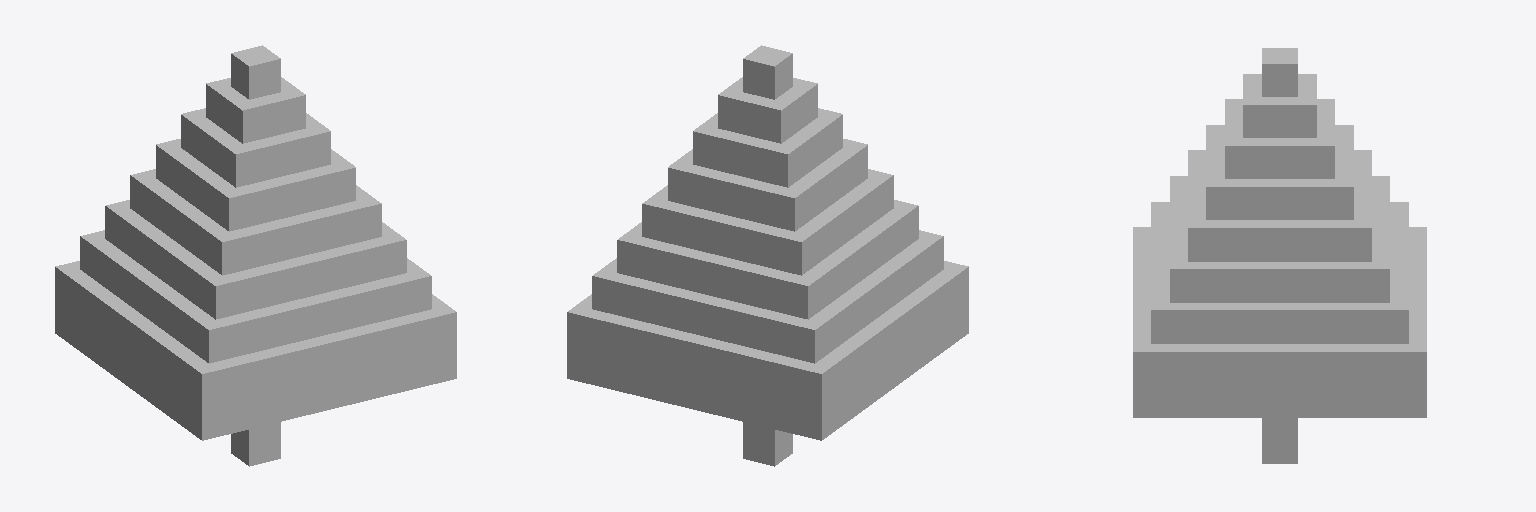
Rendered from tree.obj.
The picture shows the model from 3 angles: view 1: azimuth 30°, elevation 25°; view 2: azimuth 150°, elevation 25°; view 3: azimuth 270°, elevation 25°; orthographic projection.
Visible parts, largest first — view 1: model; view 2: model; view 3: model.
Boxes of the visible parts, box(x1,y1,x2,y2) form: model: box(55, 45, 456, 466); model: box(567, 45, 968, 466); model: box(1133, 48, 1426, 463).
Size of the model in its own units: 2 by 3 by 2.